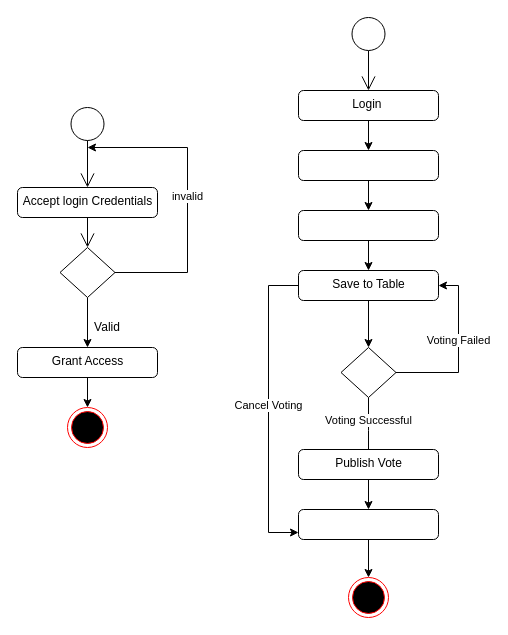
Some shapes in this 508 by 635 pixel diagram are drawn without their labels. The shapes that lost their labels are listed below. From the top down, each one's centre as x and y in pixels, then its label:
(x=368, y=165): Select Candidate
(x=368, y=225): Cast Vote
(x=368, y=524): Logout
